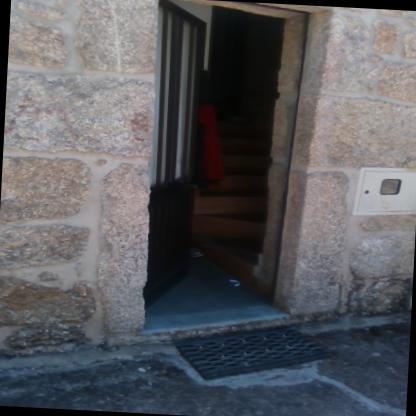semi: (130, 4, 318, 338)
